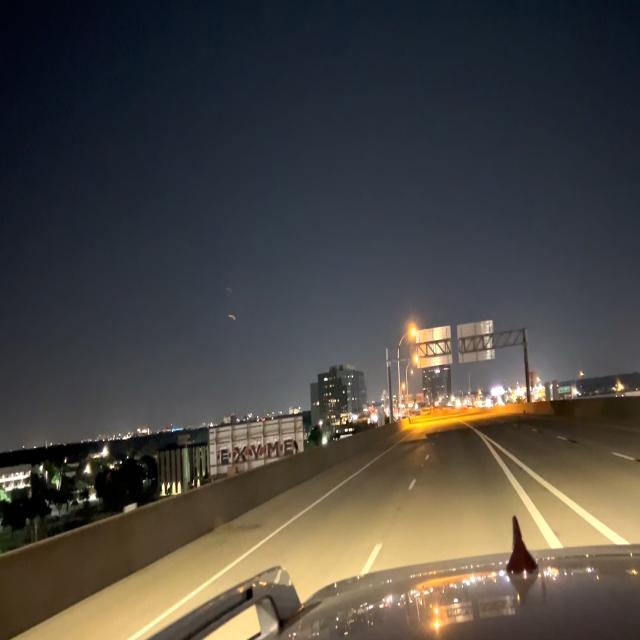back-of-sign: (458, 319, 496, 365), (416, 325, 452, 369)
